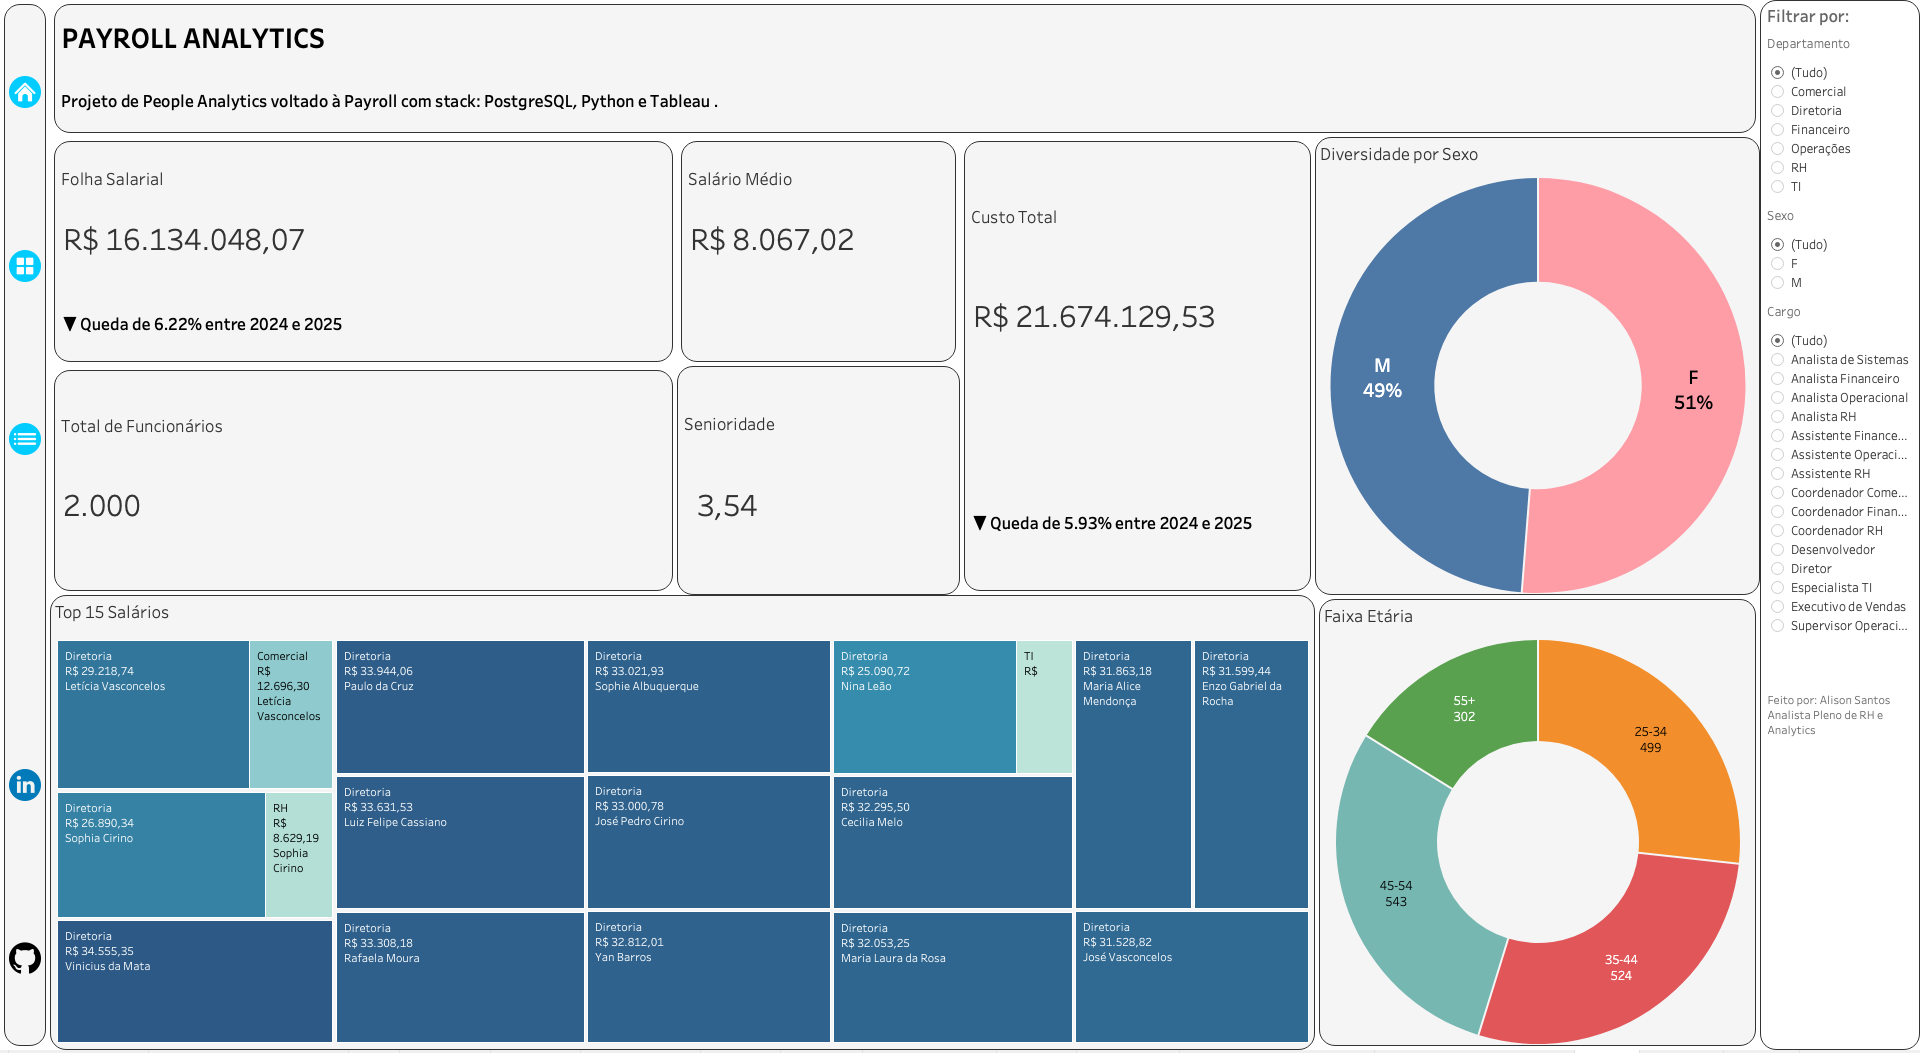

The dashboard page shown, as its layout file describes it:
{"tool":"tableau","page":{"name":"Home","canvas":[1000,1000],"units":"permille","ordinal":1},"visuals":[{"type":"text","box":[917.2,1,82.3,28.6]},{"type":"dashboard-object","box":[2.6,4.8,20.8,165.7]},{"type":"text","box":[28.7,4.8,885.4,61]},{"type":"text","box":[917.2,29.5,82.3,23.8]},{"type":"filter","title":"Folha Salarial","param":"[federated.0pr0eoh1fvctpj18t7cgq0z2kr19].[none:departamento:nk]","box":[917.2,53.3,82.3,140]},{"type":"text","box":[28.7,65.7,885.4,60]},{"type":"worksheet","title":"Diversidade por Sexo","mark":"VizExtension","box":[685.1,130.3,231.5,436.1]},{"type":"text","box":[28.7,135.2,321.4,69.5]},{"type":"text","box":[355.2,135.2,142.2,69.5]},{"type":"text","box":[502.6,135.2,179.7,142.9]},{"type":"dashboard-object","box":[2.6,170.5,20.8,165.7]},{"type":"text","box":[917.2,193.3,82.3,23.8]},{"type":"worksheet","title":"Folha Salarial","mark":"Automatic","box":[28.7,204.8,321.4,69.5]},{"type":"worksheet","title":"Salário Médio","mark":"Automatic","box":[355.2,204.8,142.2,69.5]},{"type":"filter","title":"Folha Salarial","param":"[federated.0pr0eoh1fvctpj18t7cgq0z2kr19].[none:sexo:nk]","box":[917.2,217.1,82.3,67.6]},{"type":"worksheet","title":"Variação de Salário 2024 x 2025","mark":"Automatic","box":[28.7,274.3,321.4,69.5]},{"type":"blank","box":[355.2,274.3,142.2,69.5]},{"type":"worksheet","title":"Custo Total","mark":"Automatic","box":[502.6,278.1,179.7,141.9]},{"type":"text","box":[917.2,284.8,82.3,23.8]},{"type":"filter","title":"Folha Salarial","param":"[federated.0pr0eoh1fvctpj18t7cgq0z2kr19].[none:cargo:nk]","box":[917.2,308.6,82.3,302.9]},{"type":"dashboard-object","box":[2.6,336.2,20.8,164.8]},{"type":"text","box":[353.1,349.5,146.3,108.6]},{"type":"text","box":[28.7,353.3,321.4,104.8]},{"type":"worksheet","title":"Variação de Custo 2024 x 2025","mark":"Automatic","box":[502.6,420,179.7,141.9]},{"type":"worksheet","title":"Total Funcionários","mark":"Automatic","box":[28.7,458.1,321.4,103.8]},{"type":"worksheet","title":"Senioridade","mark":"Automatic","box":[353.1,458.1,146.3,107.6]},{"type":"blank","box":[2.6,500.9,20.8,164.8]},{"type":"worksheet","title":"Top 15 Salários","mark":"Automatic","box":[26.1,566.4,659,433.6]},{"type":"worksheet","title":"Faixa Etária","mark":"VizExtension","box":[685.1,566.4,231.6,433.6]},{"type":"text","box":[917.2,611.4,82.3,141]},{"type":"image","param":"/Users/alison/Library/Mobile Documents/com~apple~CloudDocs/payroll-analytics/ass","box":[2.6,665.7,20.8,164.8]},{"type":"image","param":"/Users/alison/Library/Mobile Documents/com~apple~CloudDocs/payroll-analytics/ass","box":[2.6,830.5,20.8,164.8]}]}

Visuals, with their boxes on the dashboard's canvas, which has no fixed pixel size, in thousandths of its width and height (x1, y1, x2, y2). These are canvas units, not pixel positions in the 1920x1053 screenshot, which may show the page scaled, cropped or inside an application window:
text: detection(917, 1, 1000, 30)
dashboard-object: detection(3, 5, 23, 170)
text: detection(29, 5, 914, 66)
text: detection(917, 30, 1000, 53)
"Folha Salarial" filter: detection(917, 53, 1000, 193)
text: detection(29, 66, 914, 126)
"Diversidade por Sexo" worksheet (VizExtension marks): detection(685, 130, 917, 566)
text: detection(29, 135, 350, 205)
text: detection(355, 135, 497, 205)
text: detection(503, 135, 682, 278)
dashboard-object: detection(3, 170, 23, 336)
text: detection(917, 193, 1000, 217)
"Folha Salarial" worksheet: detection(29, 205, 350, 274)
"Salário Médio" worksheet: detection(355, 205, 497, 274)
"Folha Salarial" filter: detection(917, 217, 1000, 285)
"Variação de Salário 2024 x 2025" worksheet: detection(29, 274, 350, 344)
blank: detection(355, 274, 497, 344)
"Custo Total" worksheet: detection(503, 278, 682, 420)
text: detection(917, 285, 1000, 309)
"Folha Salarial" filter: detection(917, 309, 1000, 612)
dashboard-object: detection(3, 336, 23, 501)
text: detection(353, 350, 499, 458)
text: detection(29, 353, 350, 458)
"Variação de Custo 2024 x 2025" worksheet: detection(503, 420, 682, 562)
"Total Funcionários" worksheet: detection(29, 458, 350, 562)
"Senioridade" worksheet: detection(353, 458, 499, 566)
blank: detection(3, 501, 23, 666)
"Top 15 Salários" worksheet: detection(26, 566, 685, 1000)
"Faixa Etária" worksheet (VizExtension marks): detection(685, 566, 917, 1000)
text: detection(917, 611, 1000, 752)
image: detection(3, 666, 23, 830)
image: detection(3, 830, 23, 995)
